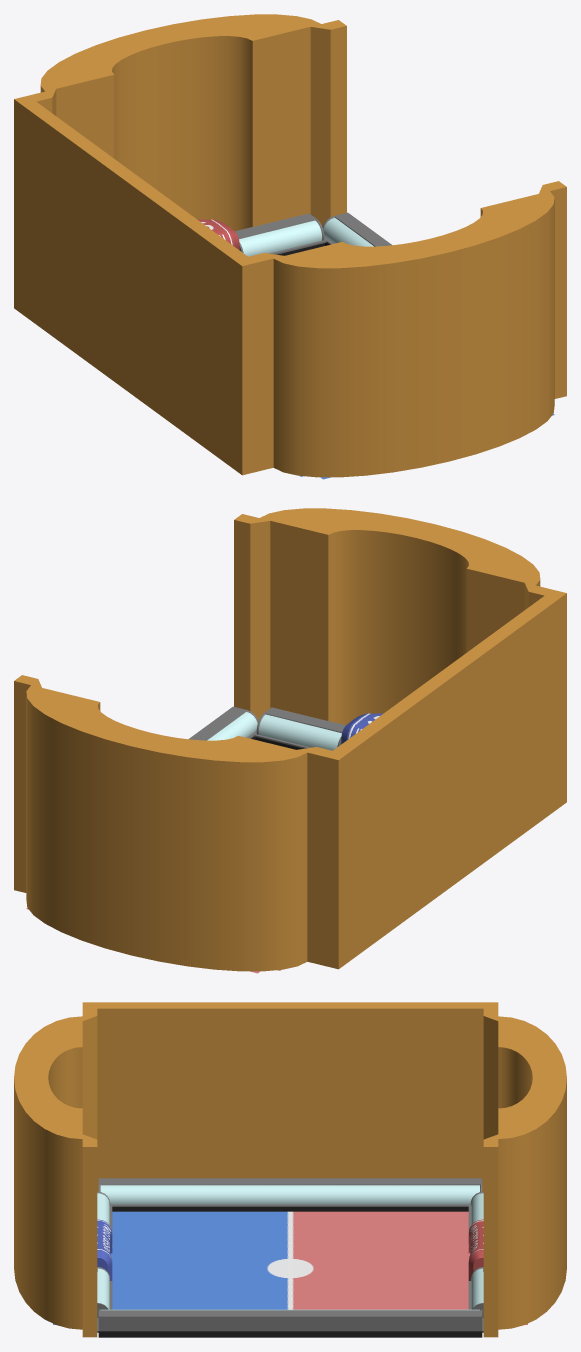
File: BIG ARENA.fbx
3 views of the same model, one above another, from view 1: azimuth 30°, elevation 25°; view 2: azimuth 150°, elevation 25°; view 3: azimuth 270°, elevation 25° (orthographic). The views are drawn at different scales.
Parts seen in each view (by area): view 1: pCube2, pCylinder5, pCylinder6; view 2: pCube2, pCylinder5, pCylinder6; view 3: pCube2, pPlane1, pCylinder6, pCylinder5, polySurface3, polySurface2.
Part boxes in pixels (<box>): pCube2: <box>14,14,566,477</box>; pCylinder5: <box>235,213,326,256</box>; pCylinder6: <box>322,212,392,246</box>; pCube2: <box>14,508,566,971</box>; pCylinder5: <box>254,707,345,750</box>; pCylinder6: <box>188,706,258,740</box>; pCube2: <box>14,1002,566,1337</box>; pPlane1: <box>53,1211,527,1324</box>; pCylinder6: <box>97,1178,483,1337</box>; pCylinder5: <box>97,1191,483,1318</box>; polySurface3: <box>468,1219,483,1280</box>; polySurface2: <box>97,1219,112,1280</box>.
Bounding box in the file's own units: 1842 × 1133 × 2979.
5 materials, 5 textured.
